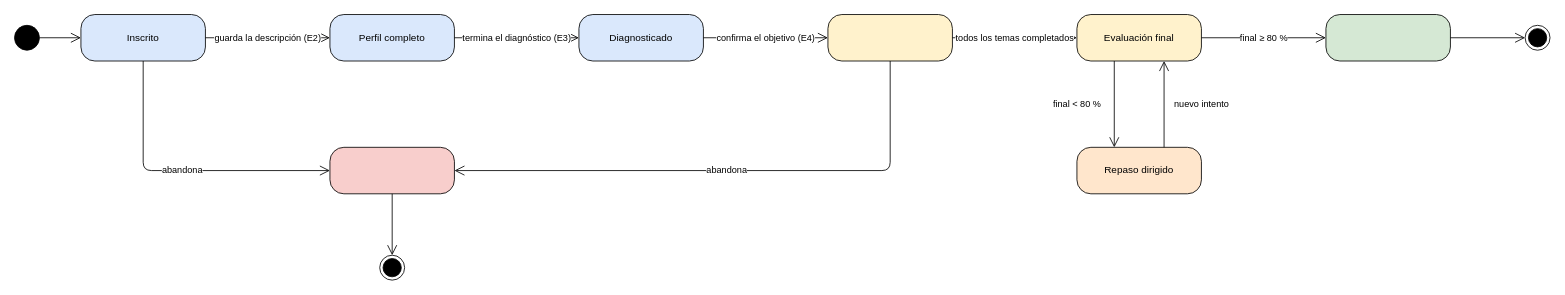
Some shapes in this 1565 by 295 pixel diagram are drawn without their labels. The box of each missing label's shape, as (x1, y1, x2, y2) in pixels:
Abandonado: (329, 146, 454, 194)
Certificado (badge emitido): (1325, 14, 1450, 61)
En ruta: (827, 14, 952, 61)
